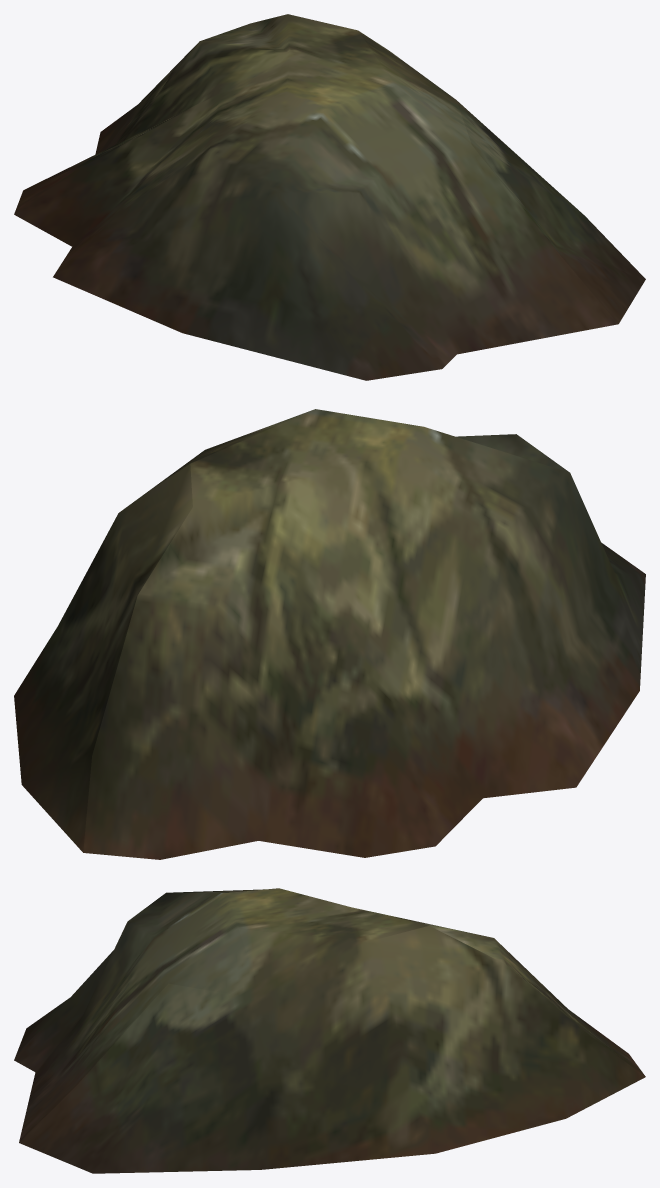
The model's file is fxmg_shitou7.FBX.
The picture shows the model from 3 angles, top to bottom: view 1: azimuth 30°, elevation 25°; view 2: azimuth 150°, elevation 25°; view 3: azimuth 270°, elevation 25°; orthographic projection. The views are drawn at different scales.
Parts seen in each view (by area): view 1: KLMSM_shitou7; view 2: KLMSM_shitou7; view 3: KLMSM_shitou7.
Part boxes in pixels (box(x1,y1,x2,y2)): KLMSM_shitou7: box(14, 14, 645, 380); KLMSM_shitou7: box(14, 409, 645, 859); KLMSM_shitou7: box(14, 888, 645, 1173).
Size of the model in its own units: 10.32 by 3.94 by 13.54.
